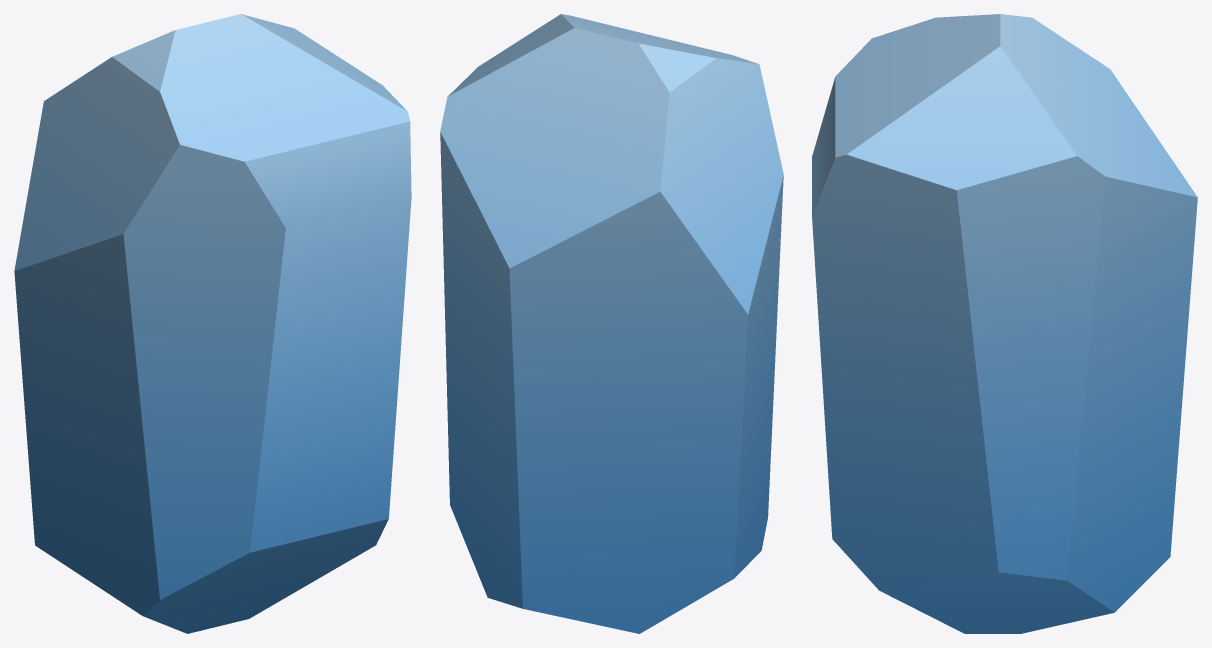
Rendered from Crystal_05.fbx.
The picture shows the model from 3 angles, left to right: view 1: azimuth 30°, elevation 25°; view 2: azimuth 150°, elevation 25°; view 3: azimuth 270°, elevation 25°; orthographic projection. The views are drawn at different scales.
Parts seen in each view (by area): view 1: Crystal_05_LOD0; view 2: Crystal_05_LOD0; view 3: Crystal_05_LOD0.
Part boxes in pixels (box(x1,y1,x2,y2)): Crystal_05_LOD0: box(14, 14, 411, 633); Crystal_05_LOD0: box(440, 14, 783, 633); Crystal_05_LOD0: box(812, 14, 1197, 633).
Size of what is drawn, in the model's own units: 0.3472 by 0.6074 by 0.3584.
